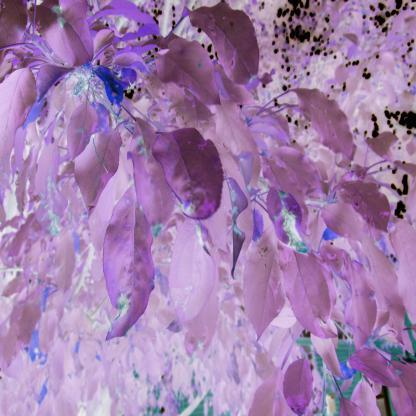Apple Scab Leaf: (99, 184, 157, 345)
